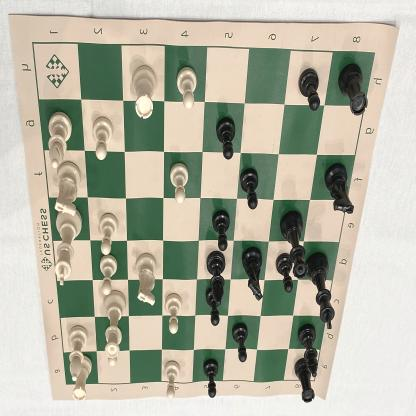black-bishop: (297, 322, 320, 378), (207, 250, 226, 306)
black-king: (305, 251, 337, 332)
black-knight: (325, 163, 354, 217), (240, 246, 265, 302)
black-pawn: (298, 66, 322, 112), (215, 113, 237, 163), (240, 166, 259, 212), (230, 320, 249, 365), (212, 208, 231, 252), (275, 252, 293, 294), (202, 358, 220, 400), (205, 285, 222, 328)
black-queen: (280, 209, 307, 279)
black-rook: (339, 63, 369, 118), (294, 360, 316, 404)
white-bishop: (48, 110, 73, 168), (66, 323, 89, 382)
white-king: (53, 207, 84, 288)
white-knight: (53, 161, 81, 216), (134, 250, 158, 306)
white-pawn: (175, 64, 198, 112), (92, 115, 114, 160), (169, 160, 189, 206), (98, 212, 119, 255), (164, 291, 183, 336), (100, 254, 118, 297), (164, 359, 182, 402), (106, 324, 122, 368)
white-queen: (101, 290, 128, 358)
white-rook: (131, 63, 159, 121), (73, 354, 94, 404)
